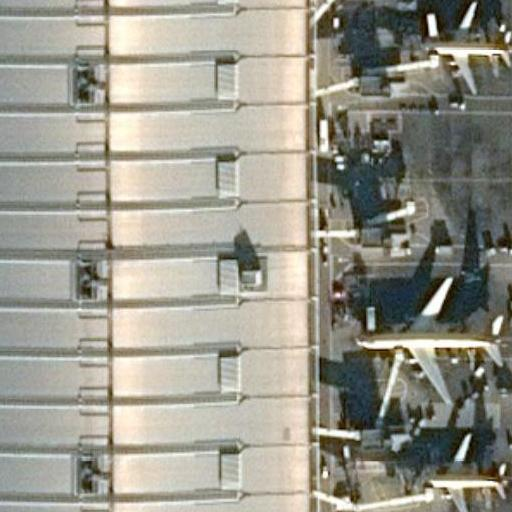Aircraft: (354, 276, 506, 405), (422, 0, 512, 94), (418, 432, 508, 512)
